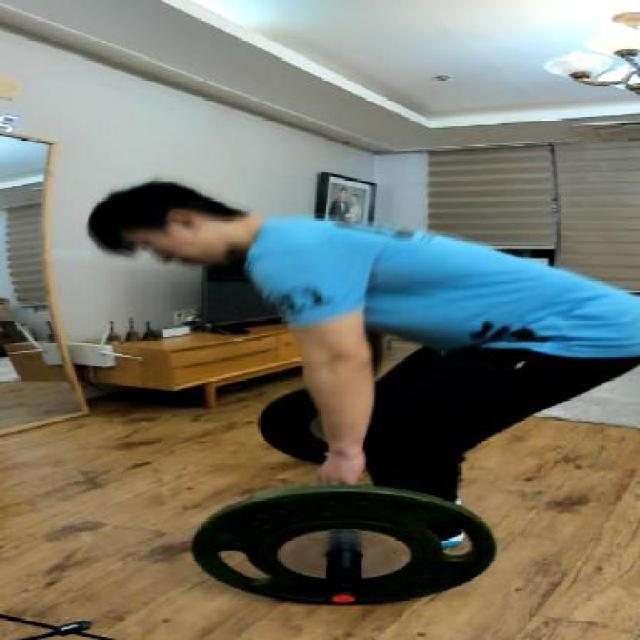barbell: (177, 482, 520, 623)
